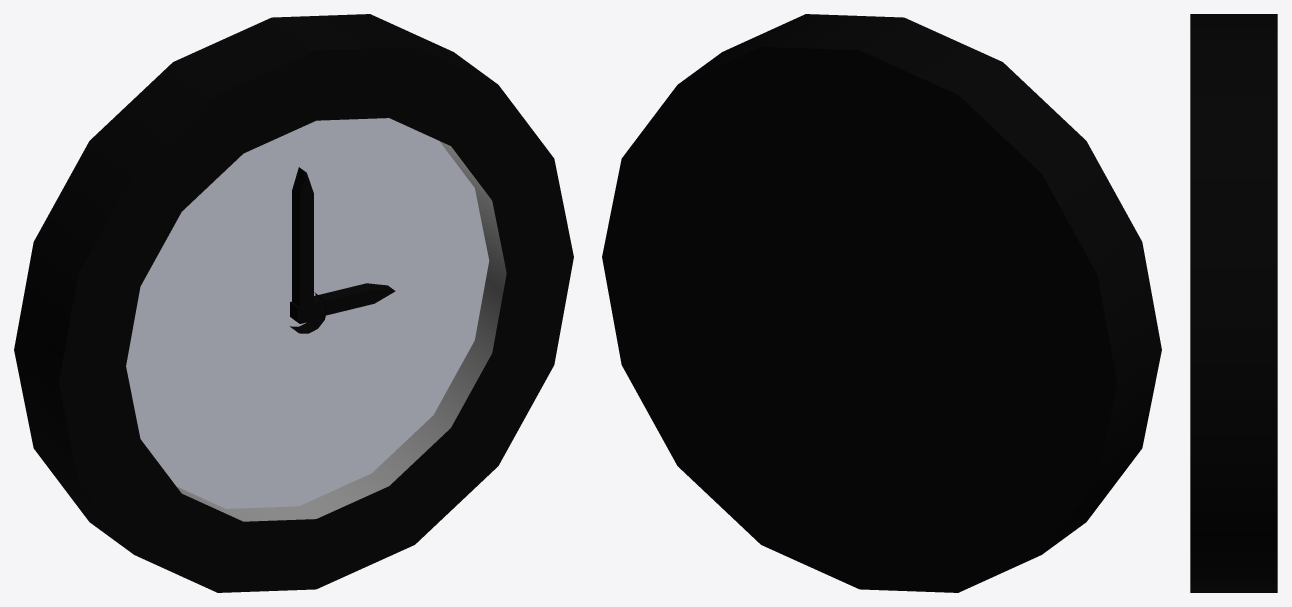
The model's file is jam dinding perpus.fbx.
3 views of the same model, side by side, from view 1: azimuth 30°, elevation 25°; view 2: azimuth 150°, elevation 25°; view 3: azimuth 270°, elevation 25° (orthographic). The views are drawn at different scales.
Parts seen in each view (by area): view 1: Cylinder; view 2: Cylinder; view 3: Cylinder.
Boxes of the visible parts, x1=… form: Cylinder: x1=14, y1=14, x2=573, y2=592; Cylinder: x1=602, y1=14, x2=1161, y2=592; Cylinder: x1=1190, y1=14, x2=1277, y2=592.
Size of the model in its own units: 55.42 by 55.42 by 8.34.
